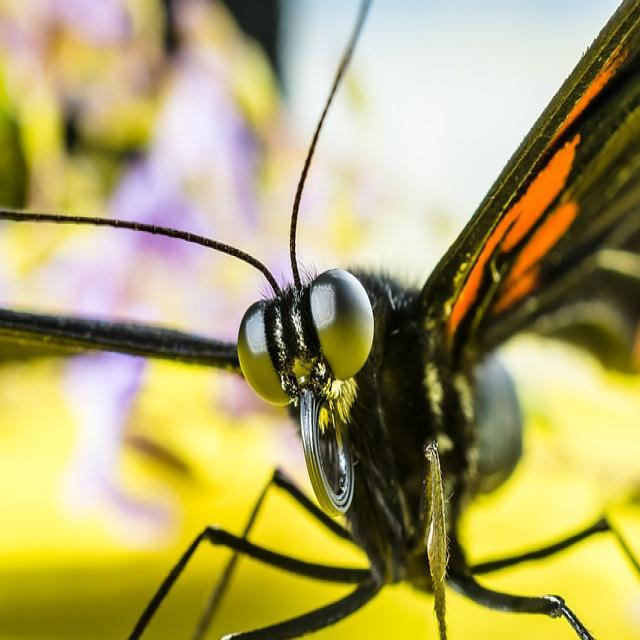butterfly: (0, 0, 640, 638)
